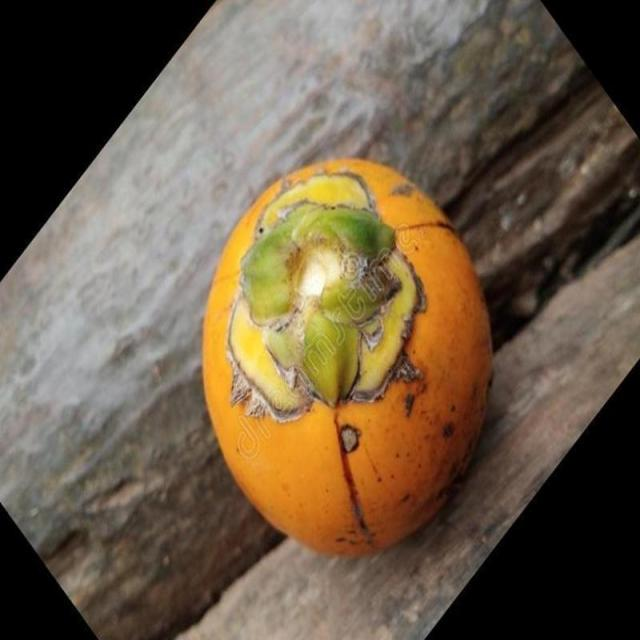good: (200, 159, 494, 559)
